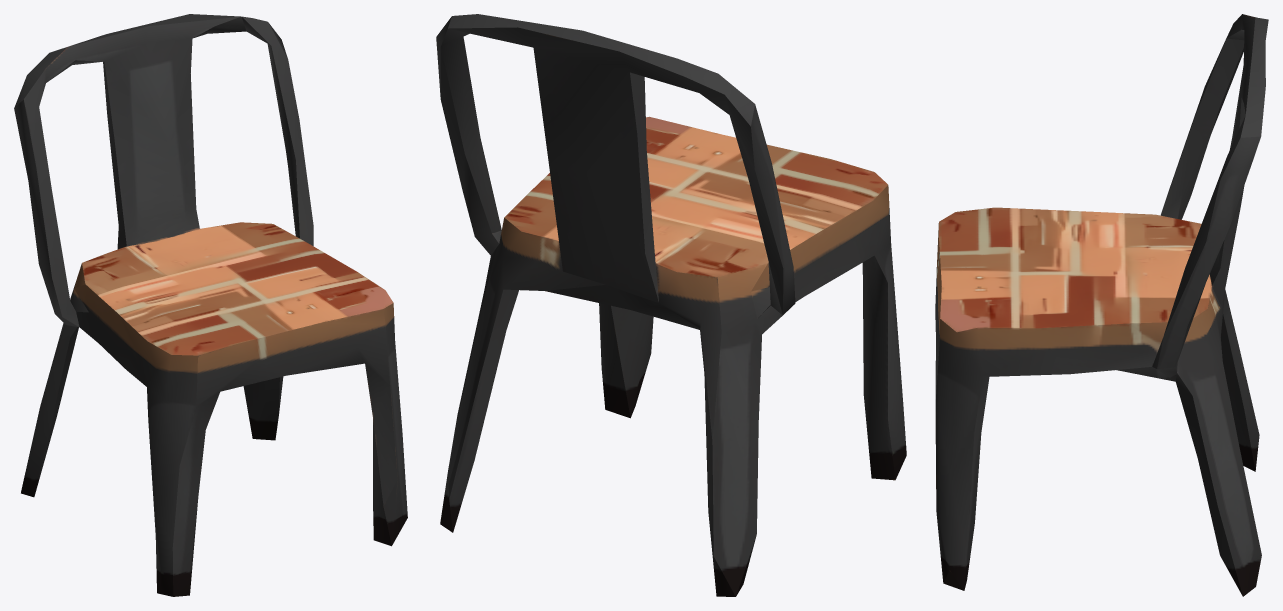
The model's file is brickloft-tolix-chair.glb.
The picture shows the model from 3 angles, left to right: view 1: azimuth 30°, elevation 25°; view 2: azimuth 150°, elevation 25°; view 3: azimuth 270°, elevation 25°; orthographic projection. The views are drawn at different scales.
Visible parts, largest first — view 1: geometry_0; view 2: geometry_0; view 3: geometry_0.
Part boxes in pixels (x1,y1,x2,y2): geometry_0: [14, 14, 407, 596]; geometry_0: [436, 14, 906, 596]; geometry_0: [935, 14, 1268, 596].
Size of the model in its own units: 0.6369 by 1 by 0.6356.
Materials: 1 (1 with a texture image).
